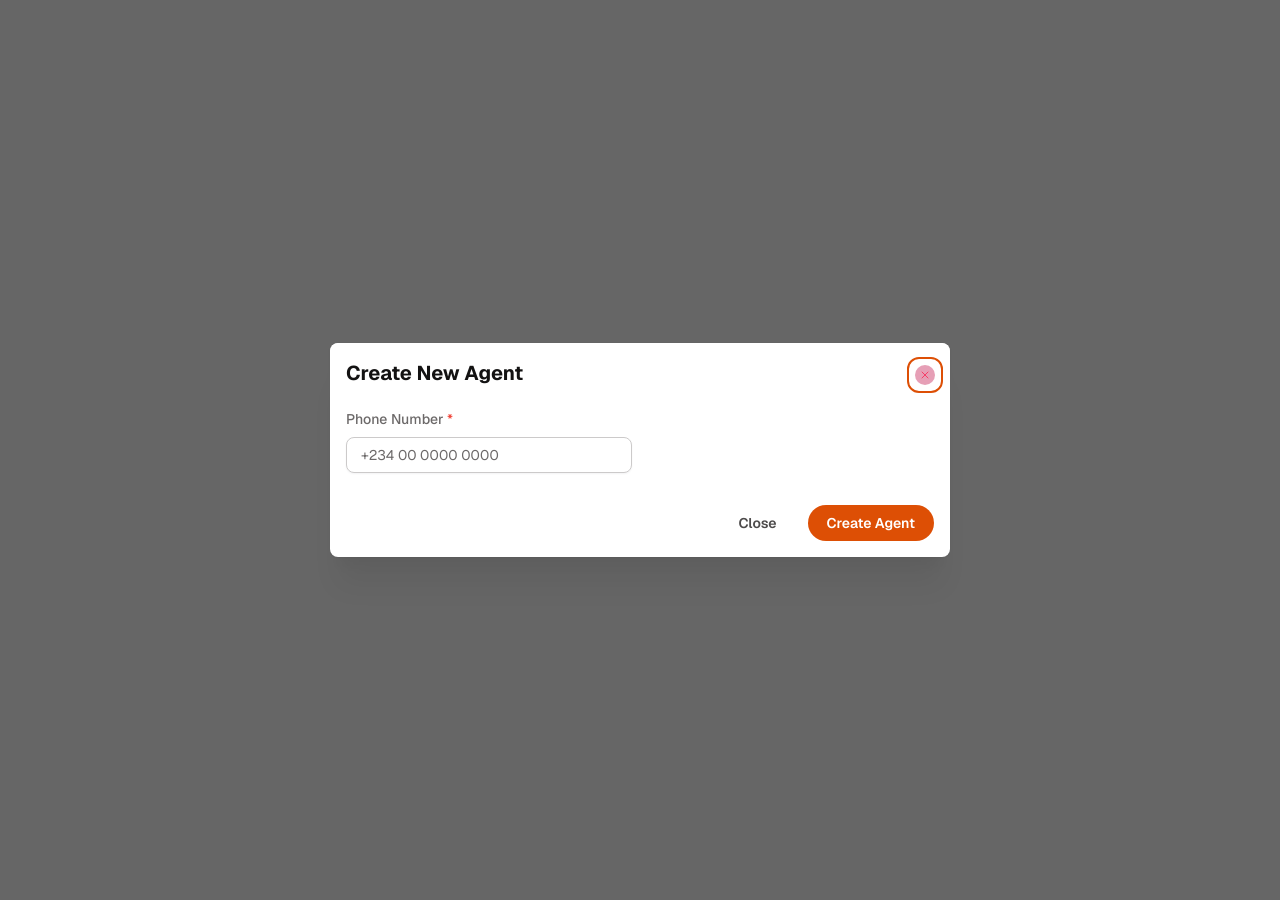
Test: FormModal phone validation › rejects +234803123456 (too short +234) and blocks submit
Type "+234803123456" into the field labelled "Phone Number *" at [489, 455], box [346,437,632,473]
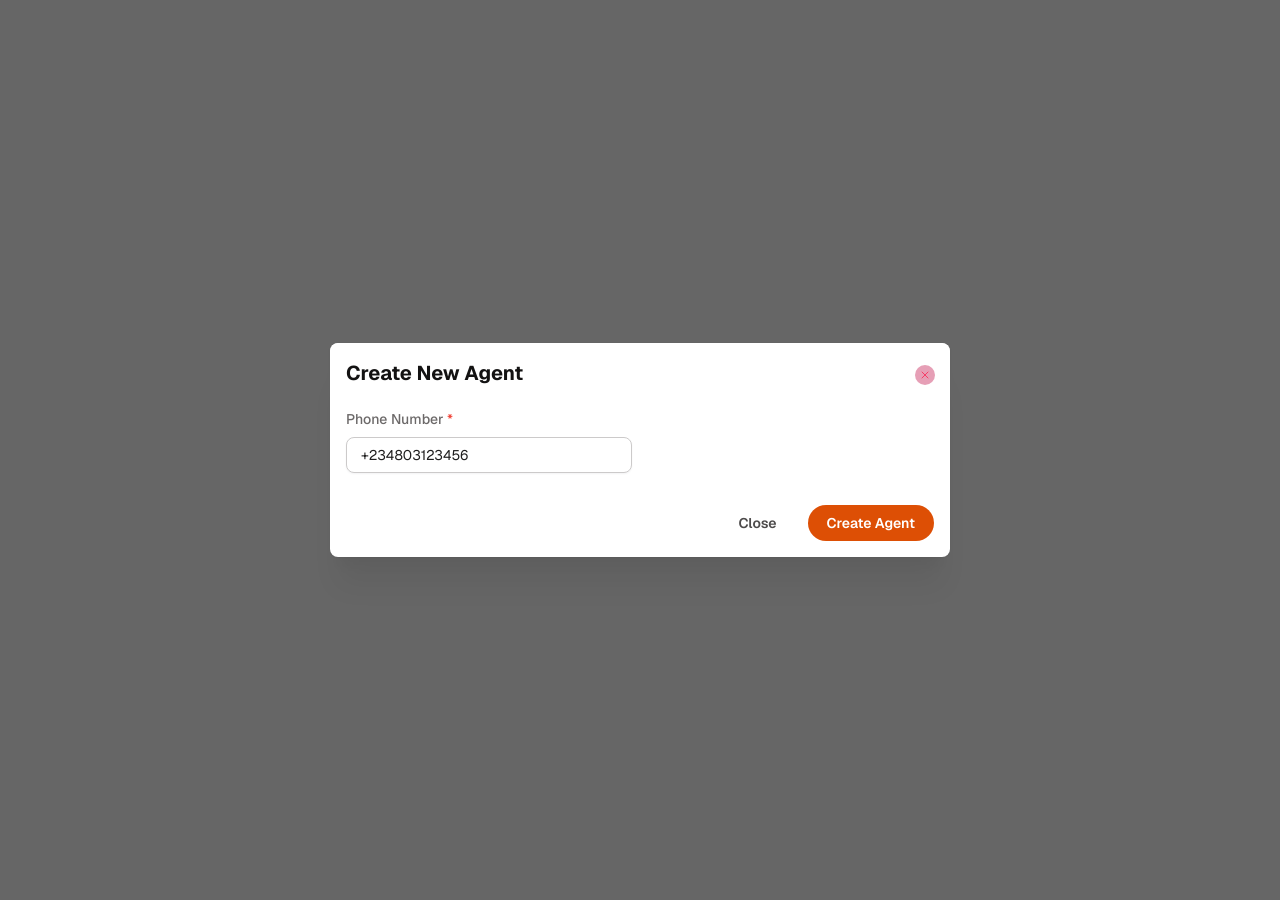
Click the button "Create Agent" at [871, 523], box [808,505,934,541]
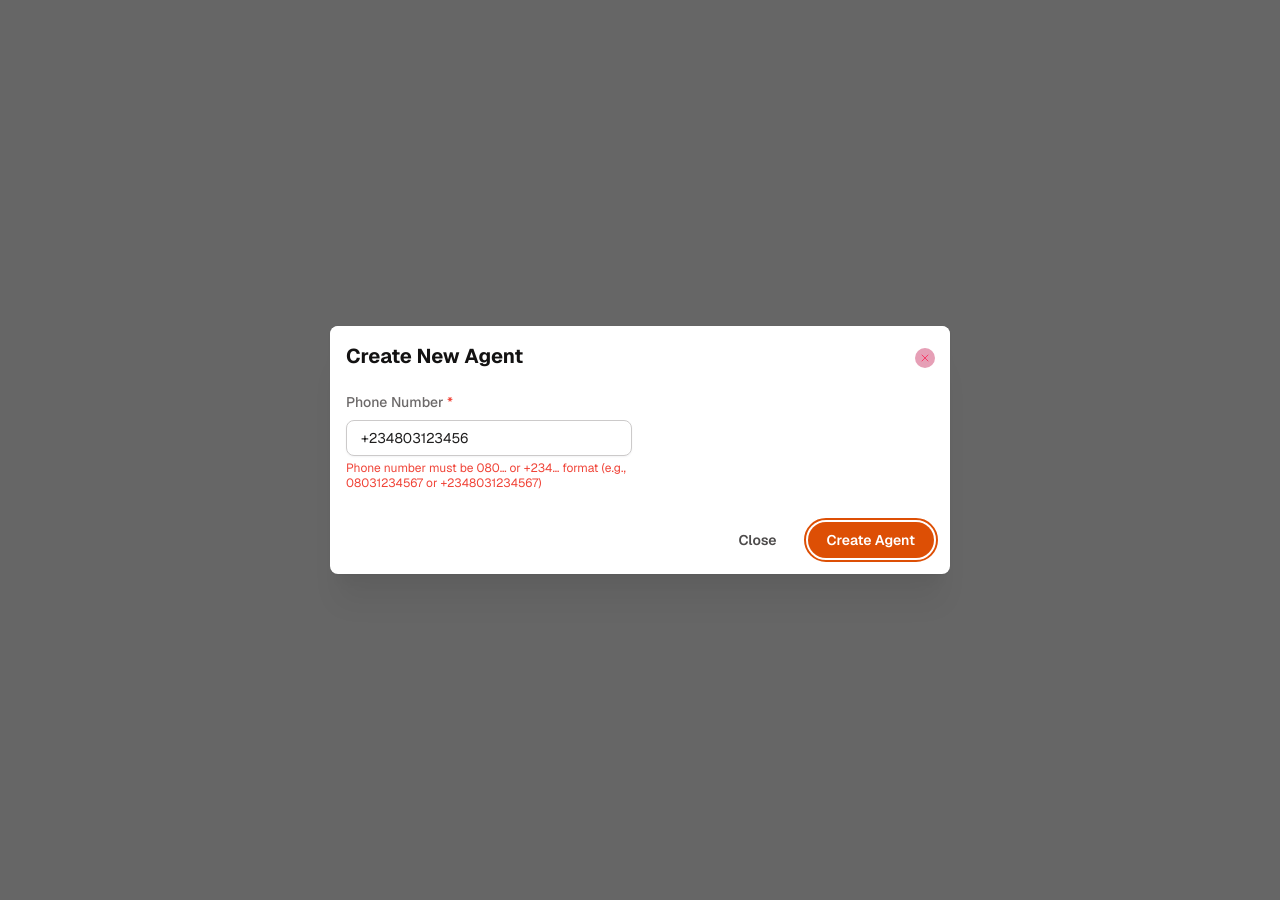
Result: the text "Phone number must be 080… or +234… format (e.g., 08031234567 or +2348031234567)" is shown at [346,461,632,490]
